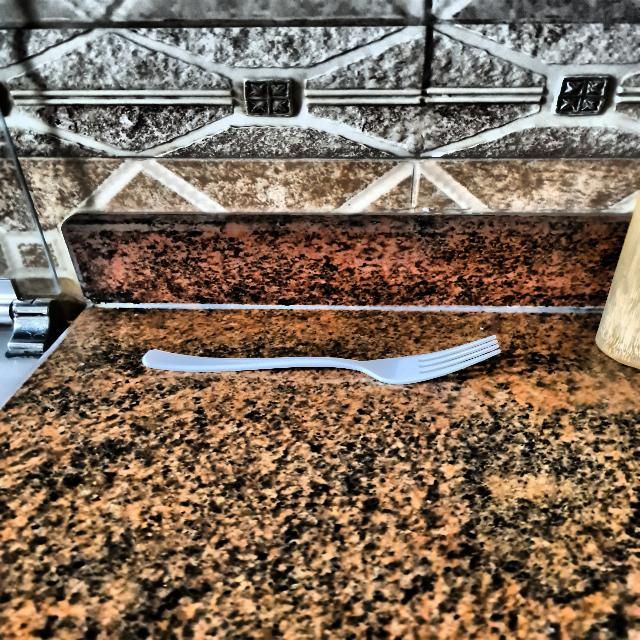plastic utensil: (142, 329, 515, 388)
